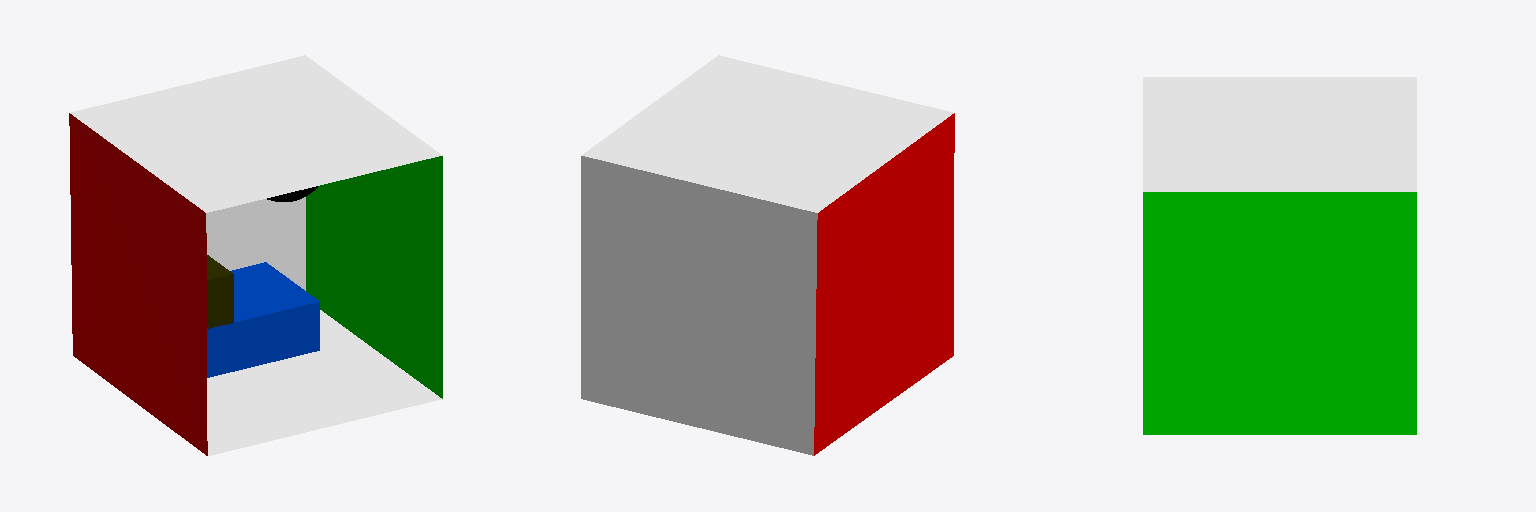
Rendered from CornellBox-Sphere-Table2.obj.
The picture shows the model from 3 angles: view 1: azimuth 30°, elevation 25°; view 2: azimuth 150°, elevation 25°; view 3: azimuth 270°, elevation 25°; orthographic projection.
Parts seen in each view (by area): view 1: CornellBox-Empty-RG, Table_Cube.002, Box_Cube.003; view 2: CornellBox-Empty-RG; view 3: CornellBox-Empty-RG.
Boxes of the visible parts, <box> form: CornellBox-Empty-RG: <box>69,55,442,455</box>; Table_Cube.002: <box>207,262,319,377</box>; Box_Cube.003: <box>207,255,233,328</box>; CornellBox-Empty-RG: <box>581,55,954,455</box>; CornellBox-Empty-RG: <box>1143,77,1416,434</box>.
Bounding box in the file's own units: 2.02 × 1.99 × 2.03.